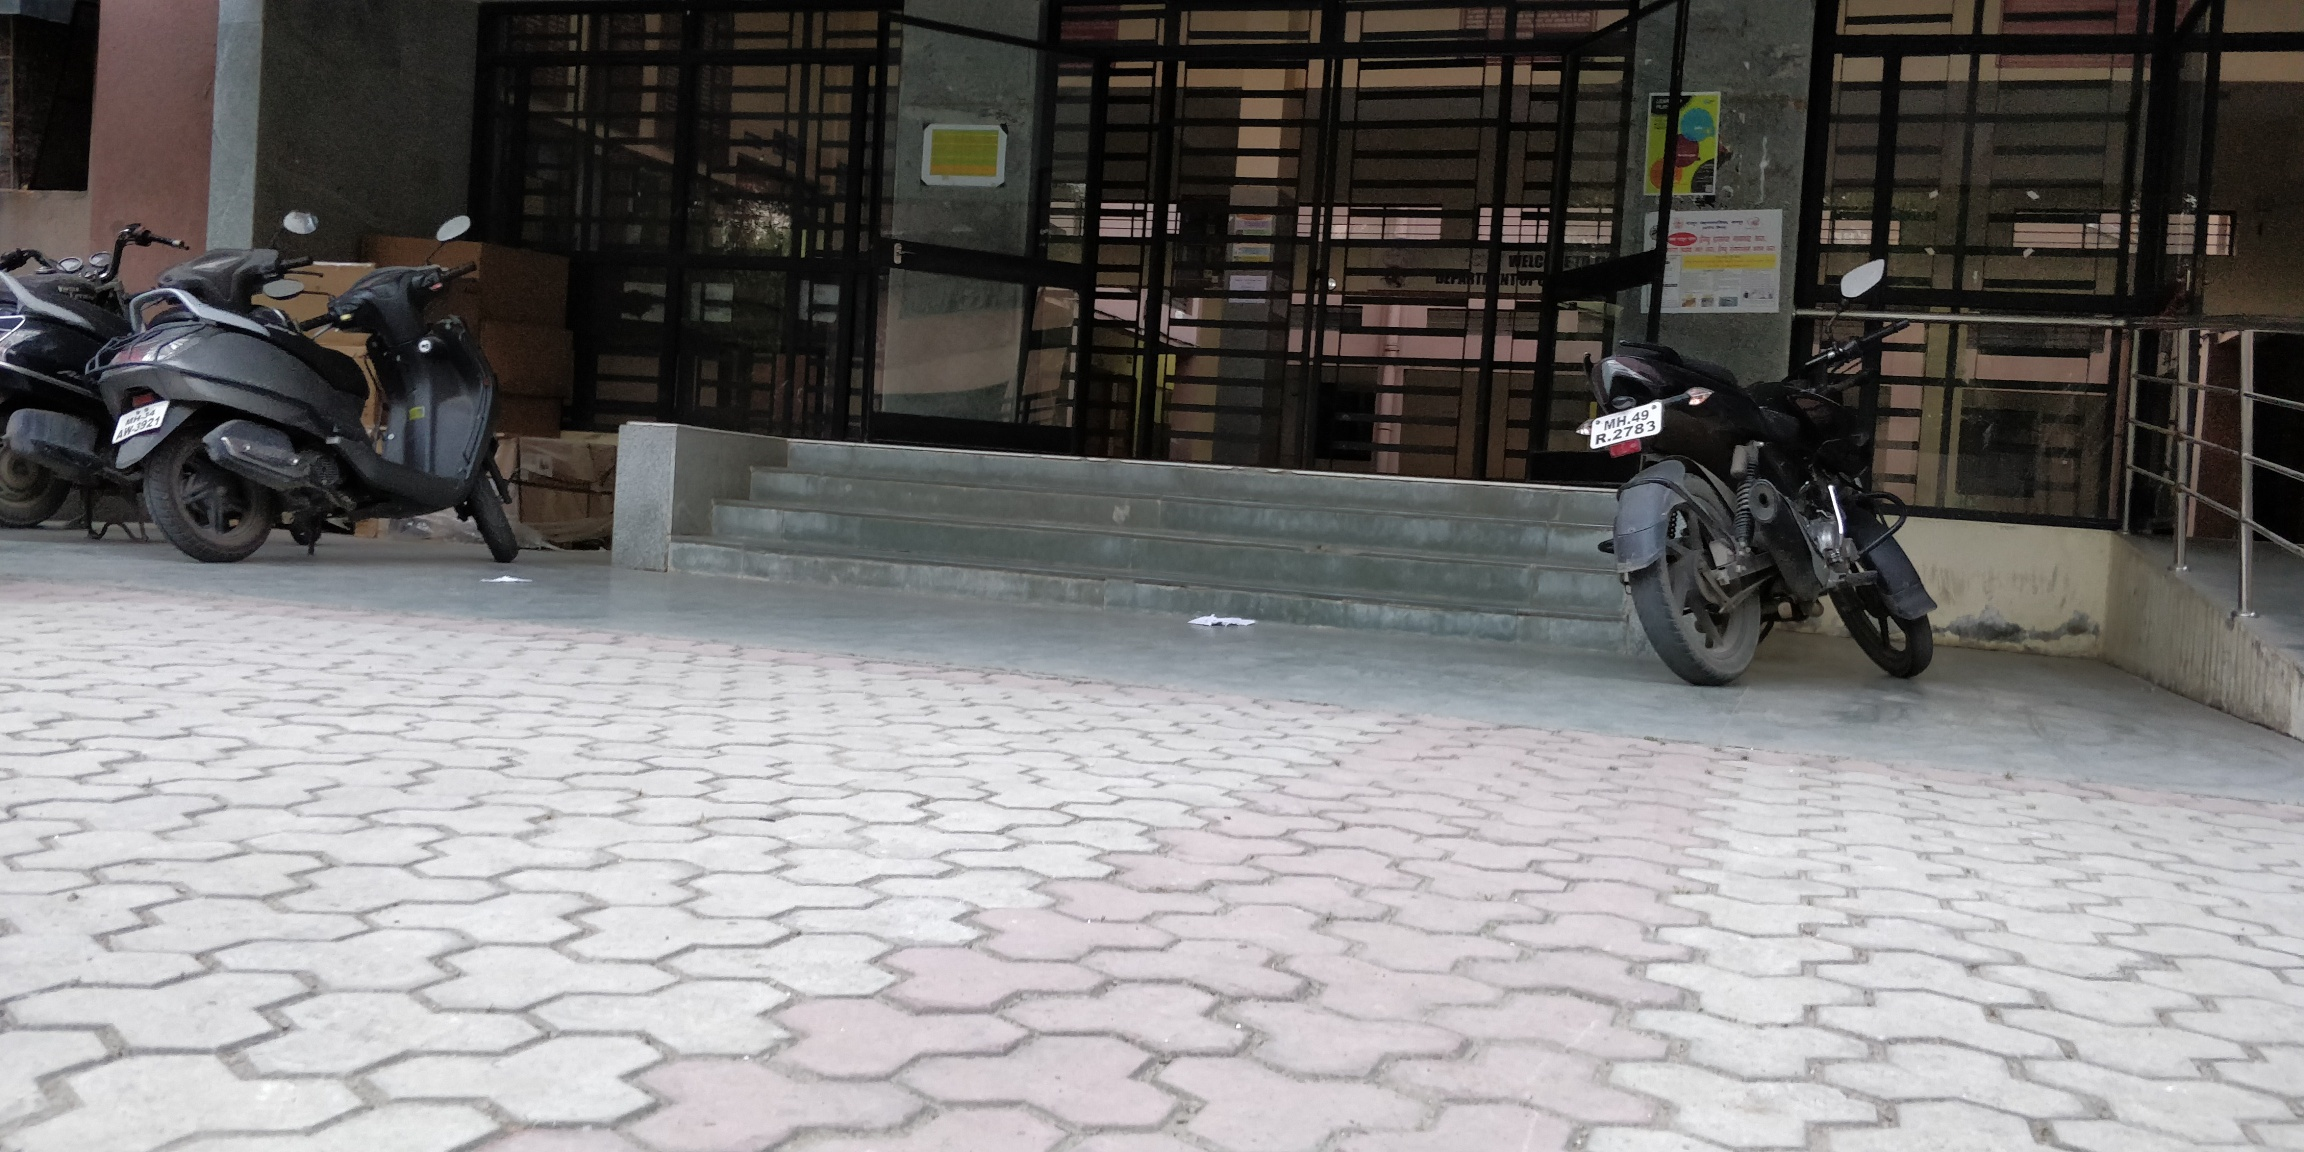stairs_up: (620, 447, 1649, 642)
